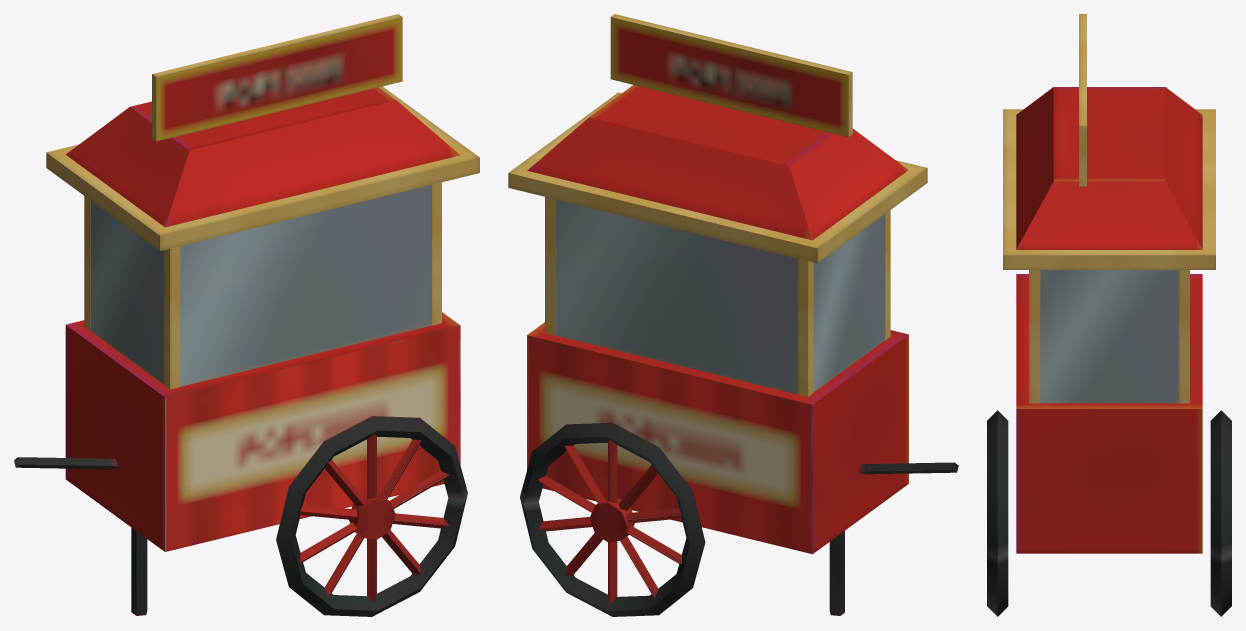
File: popcorn_cart.obj
The picture shows the model from 3 angles, left to right: view 1: azimuth 30°, elevation 25°; view 2: azimuth 150°, elevation 25°; view 3: azimuth 270°, elevation 25°; orthographic projection. The views are drawn at different scales.
Visible parts, largest first — view 1: popcorn_cart; view 2: popcorn_cart; view 3: popcorn_cart.
Part boxes in pixels (x1,y1,x2,y2): popcorn_cart: (14, 14, 479, 616); popcorn_cart: (508, 14, 958, 616); popcorn_cart: (987, 14, 1231, 616).
Size of the model in its own units: 1.65 by 2.13 by 0.92.
Materials: 1 (1 with a texture image).
